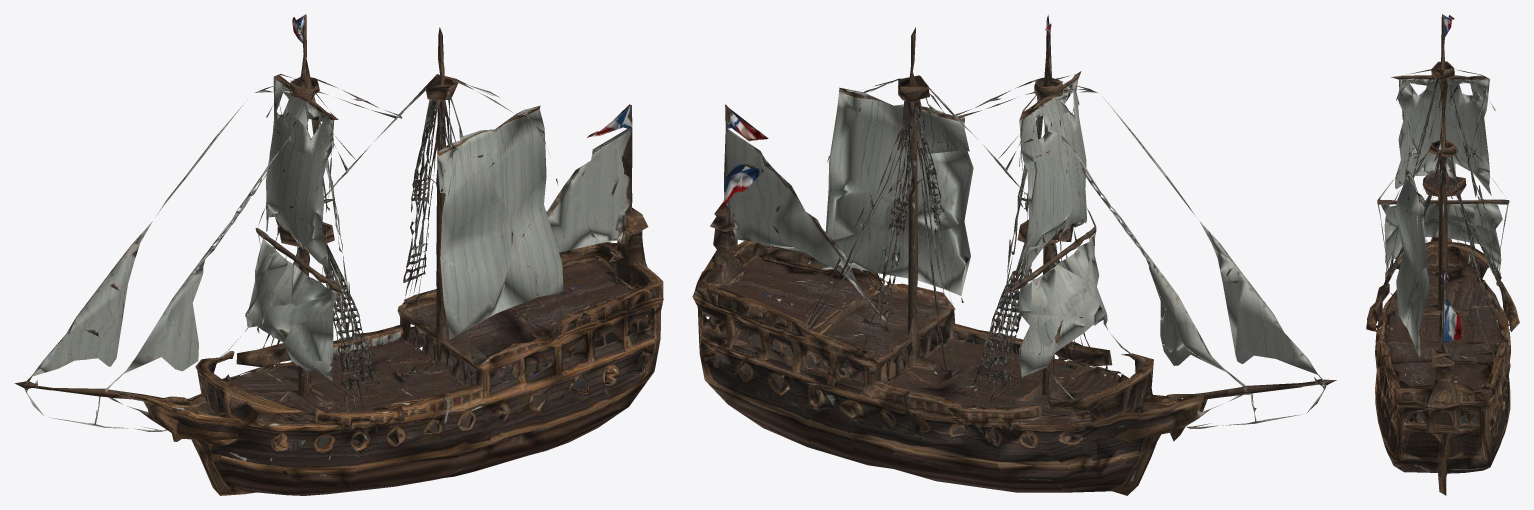
Rendered from schiff-krieg.glb.
3 views of the same model, side by side, from view 1: azimuth 30°, elevation 25°; view 2: azimuth 150°, elevation 25°; view 3: azimuth 270°, elevation 25° (orthographic). The views are drawn at different scales.
Size of the model in its own units: 1.9 by 1.36 by 0.5188.
1 material, 1 textured.
